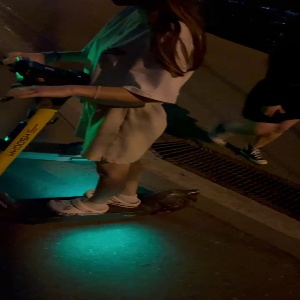human on a scooter: (1, 1, 210, 227)
